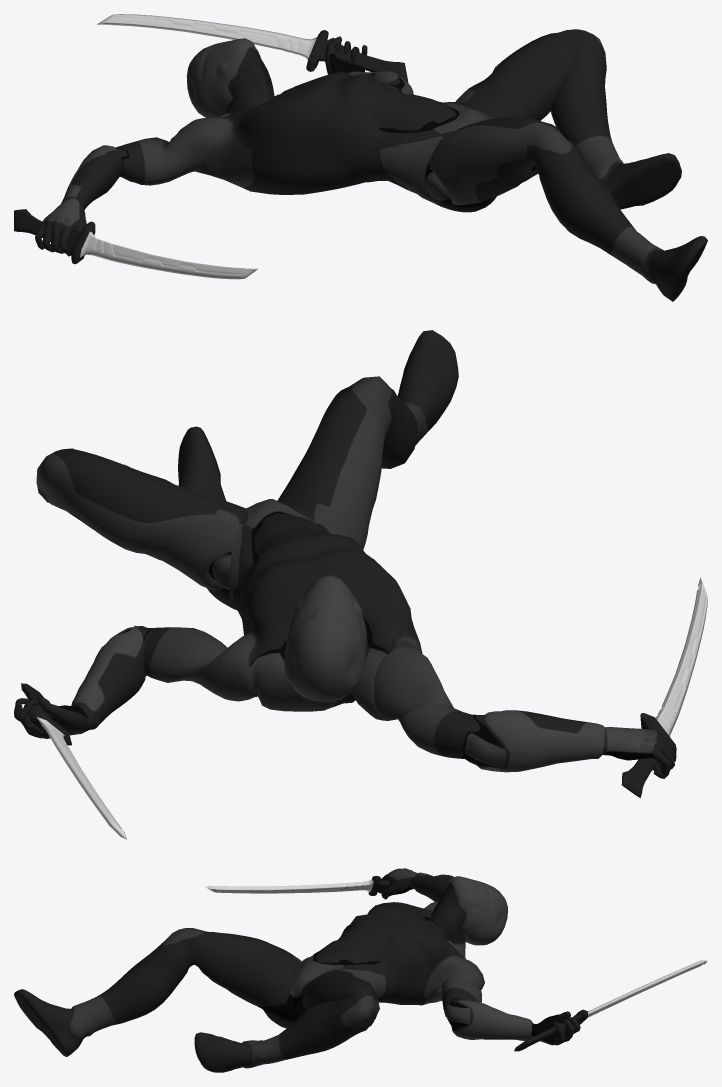
3 views of the same model, one above another, from view 1: azimuth 30°, elevation 25°; view 2: azimuth 150°, elevation 25°; view 3: azimuth 270°, elevation 25° (orthographic). The views are drawn at different scales.
Visible parts, largest first — view 1: Cyborg_Ninja_Killer, Sword_l, Sword_l001; view 2: Cyborg_Ninja_Killer, Sword_l001, Sword_l; view 3: Cyborg_Ninja_Killer, Sword_l001, Sword_l.
Part boxes in pixels (left/top/right/bottom): Cyborg_Ninja_Killer: left=35, top=29, right=707, bottom=301; Sword_l: left=97, top=14, right=408, bottom=82; Sword_l001: left=14, top=209, right=258, bottom=279; Cyborg_Ninja_Killer: left=14, top=330, right=676, bottom=778; Sword_l001: left=621, top=577, right=707, bottom=797; Sword_l: left=21, top=683, right=126, bottom=839; Cyborg_Ninja_Killer: left=14, top=868, right=580, bottom=1072; Sword_l001: left=205, top=874, right=453, bottom=895; Sword_l: left=514, top=960, right=707, bottom=1051.
Bounding box in the file's own units: 169 × 40.33 × 234.
2 materials, 2 textured.
